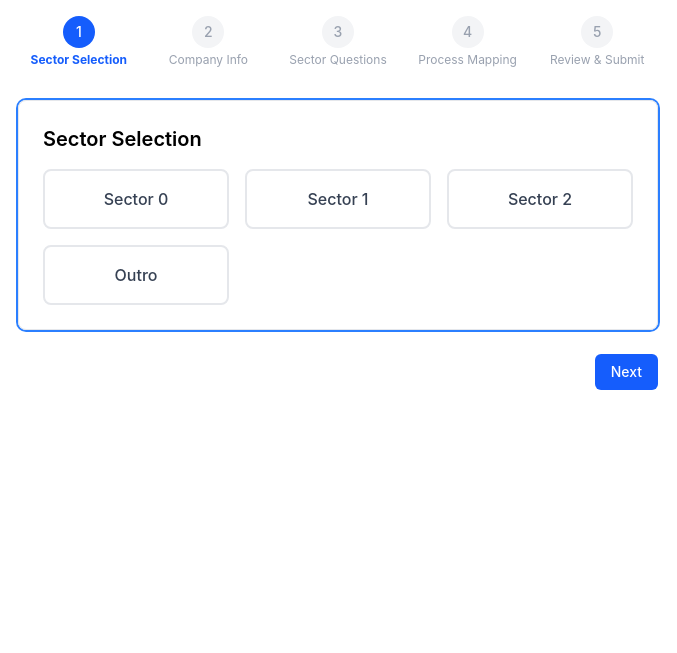
Test case: ScanForm — Navigation › navigates backward with Back button
What coordinates should you click on to do the following:
click the button "Sector 0"
I would click on:
 (136, 199)
Its box is [43,169,229,229].
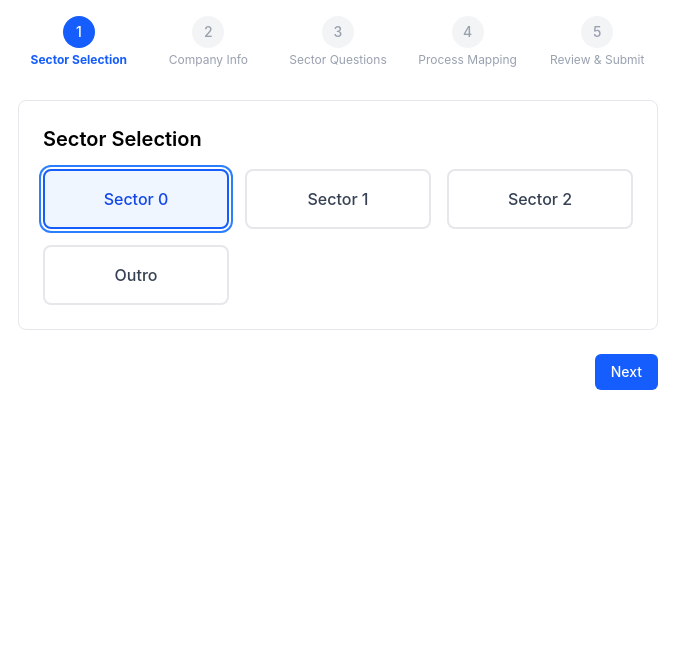
What coordinates should you click on to do the following:
click the button "Next"
I would click on:
 (626, 372)
Its box is [595,354,658,390].
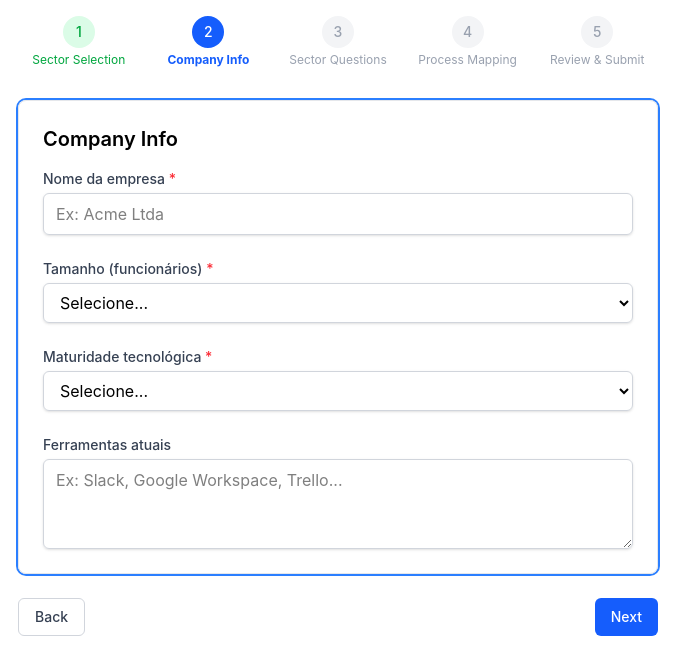
Expected: the element with test id "step-2" is shown
What coordinates should you click on to do the following:
click the button "Back"
I would click on:
 (52, 617)
Its box is [18,598,85,636].
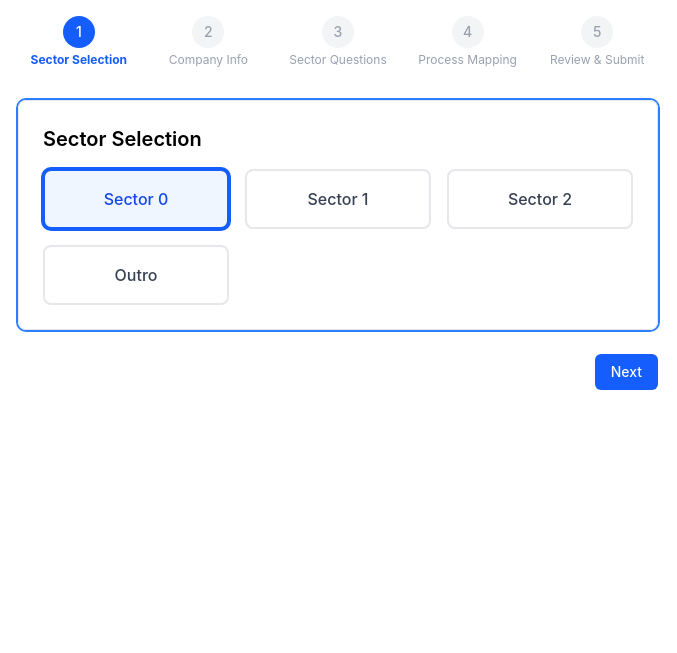
Expected: the element with test id "step-1" is shown, [18,100,658,330]
